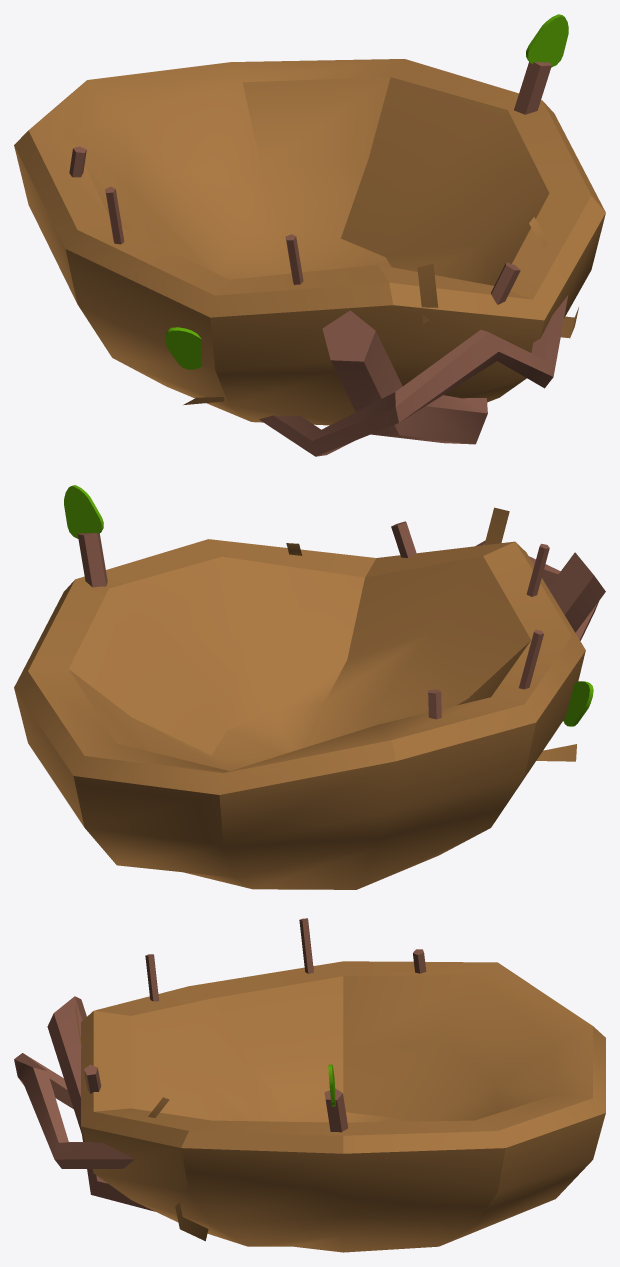
File: Ms_Nid04.fbx
3 renders of one model, top to bottom at view 1: azimuth 30°, elevation 25°; view 2: azimuth 150°, elevation 25°; view 3: azimuth 270°, elevation 25°, orthographic. The views are drawn at different scales.
Visible parts, largest first — view 1: Paille03, Branche703, Branche03, Feuille203, Branche403, Feuille303, Paillette903, Branche203, Branche503; view 2: Paille03, Branche03, Feuille203, Branche403, Feuille303, Branche503, Paillette903, Branche303, Branche203, Branche703, Paillette803; view 3: Paille03, Branche703, Branche03, Branche403, Branche503, Paillette1003.
Part boxes in pixels (bbox=[...]): Paille03: bbox=[14, 59, 605, 425]; Branche703: bbox=[259, 295, 568, 456]; Branche03: bbox=[322, 310, 487, 444]; Feuille203: bbox=[526, 14, 568, 67]; Branche403: bbox=[514, 62, 551, 114]; Feuille303: bbox=[165, 327, 202, 369]; Paillette903: bbox=[417, 264, 438, 324]; Branche203: bbox=[491, 262, 520, 304]; Branche503: bbox=[105, 186, 124, 244]; Paille03: bbox=[14, 539, 585, 889]; Branche03: bbox=[548, 552, 605, 632]; Feuille203: bbox=[64, 485, 103, 538]; Branche403: bbox=[77, 533, 107, 587]; Feuille303: bbox=[563, 681, 593, 726]; Branche503: bbox=[519, 629, 543, 689]; Paillette903: bbox=[484, 507, 509, 545]; Branche303: bbox=[526, 543, 549, 596]; Branche203: bbox=[391, 521, 416, 557]; Branche703: bbox=[475, 540, 598, 640]; Paillette803: bbox=[536, 744, 576, 761]; Paille03: bbox=[81, 961, 605, 1252]; Branche703: bbox=[14, 1053, 134, 1168]; Branche03: bbox=[47, 996, 155, 1211]; Branche403: bbox=[324, 1088, 348, 1132]; Branche503: bbox=[299, 918, 313, 973]; Paillette1003: bbox=[175, 1203, 208, 1241].
Bounding box in the file's own units: 0.3186 × 0.1945 × 0.3993.
